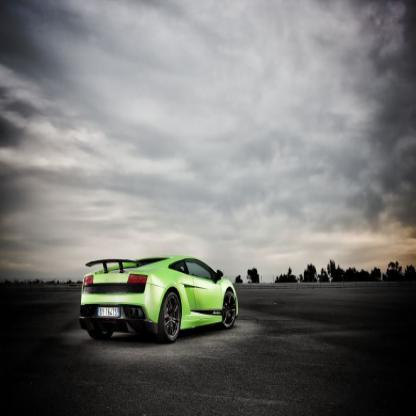Vehicle: (78, 249, 241, 348)
